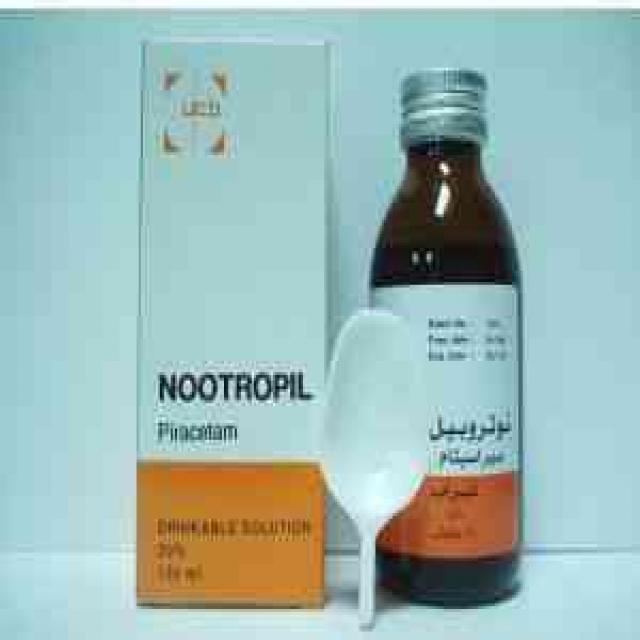drug-name: (154, 370, 316, 405)
